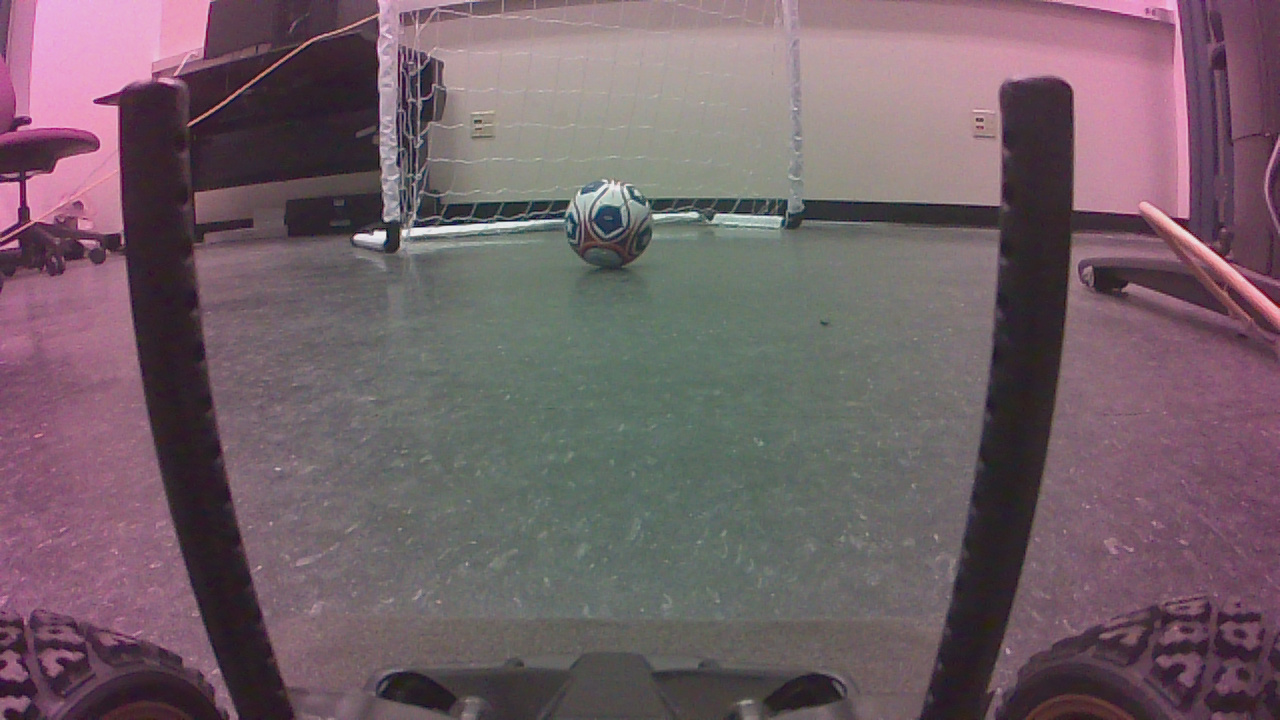ball: (570, 184, 661, 275)
goal: (353, 4, 813, 261)
